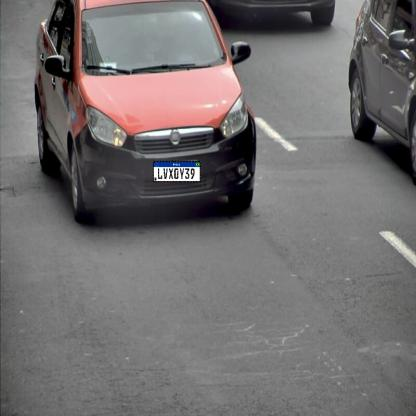PlacaM: (153, 161, 201, 182)
